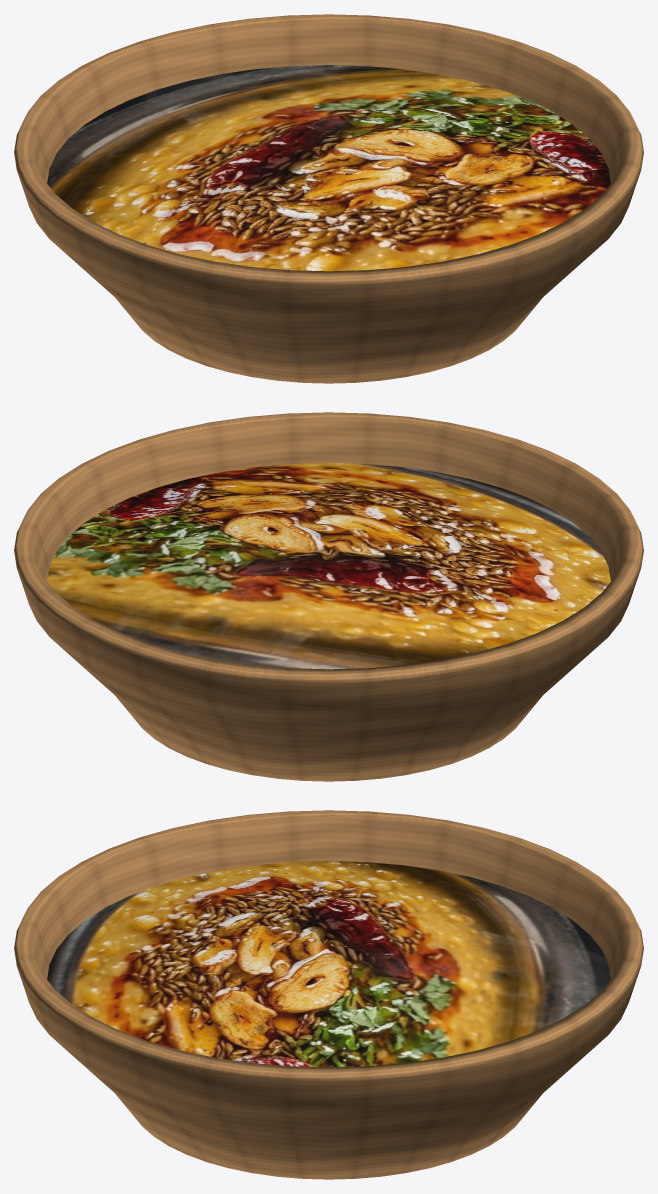
File: dal-tadka.glb
The picture shows the model from 3 angles, top to bottom: view 1: azimuth 30°, elevation 25°; view 2: azimuth 150°, elevation 25°; view 3: azimuth 270°, elevation 25°; orthographic projection.
Visible parts, largest first — view 1: BambooBowl, FoodMound; view 2: BambooBowl, FoodMound; view 3: BambooBowl, FoodMound.
Boxes of the visible parts, x1,y1,x2,y2 form: BambooBowl: (14,14,643,383); FoodMound: (47,65,610,271); BambooBowl: (14,412,643,781); FoodMound: (47,463,610,669); BambooBowl: (14,810,643,1179); FoodMound: (47,861,610,1067).
Size of the model in its own units: 0.21 by 0.058 by 0.21.
2 materials, 2 textured.
